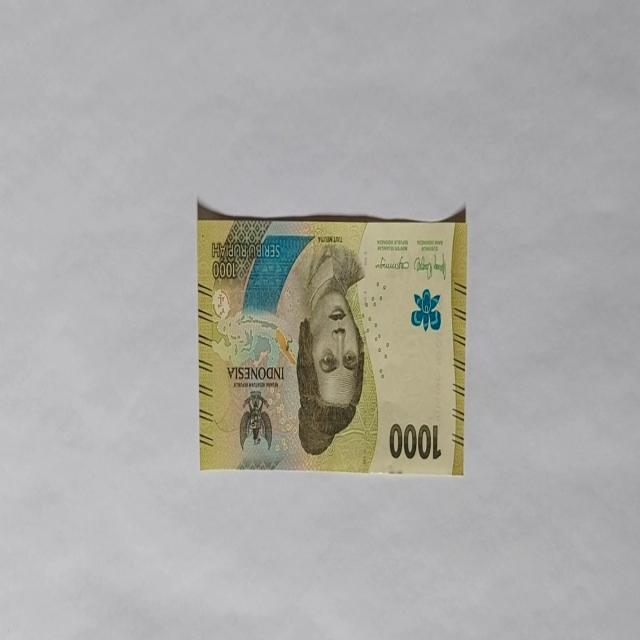seribu rupiah kertas: (197, 205, 467, 475)
